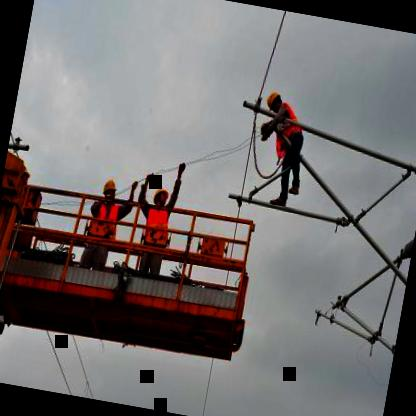helmet: (264, 86, 286, 116), (99, 177, 118, 207), (149, 184, 168, 210)
